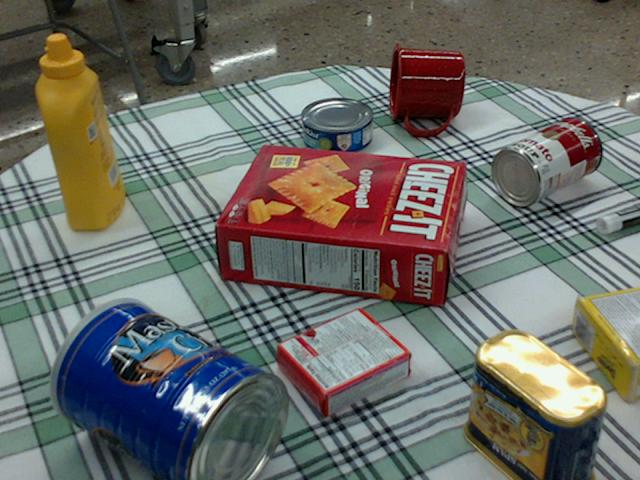cracker_box: (214, 142, 465, 307)
gelatin_box: (275, 307, 412, 413)
large_marker: (596, 205, 639, 232)
master_chef_can: (46, 299, 287, 479)
mug: (387, 43, 465, 135)
mustard_bottle: (36, 34, 124, 229)
potted_meat_can: (463, 327, 606, 479)
sugar_box: (573, 288, 639, 404)
tomato_soup_can: (491, 116, 601, 204)
tuna_fish_can: (300, 97, 372, 153)
